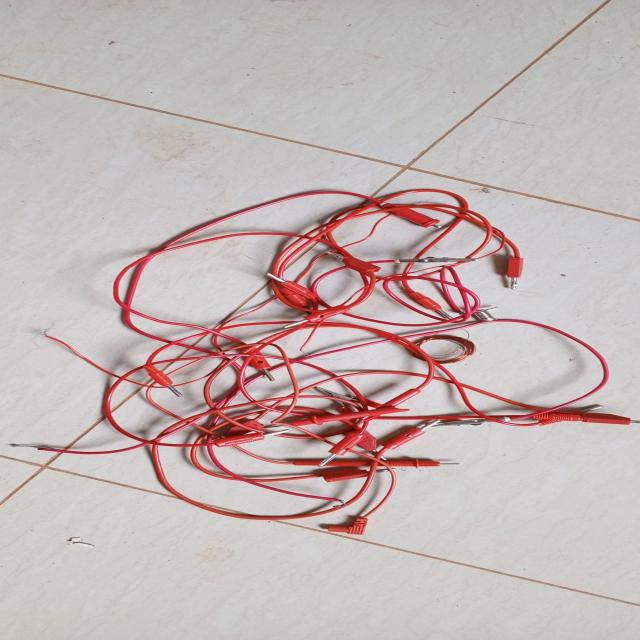BNC Cable: (82, 185, 631, 537)
